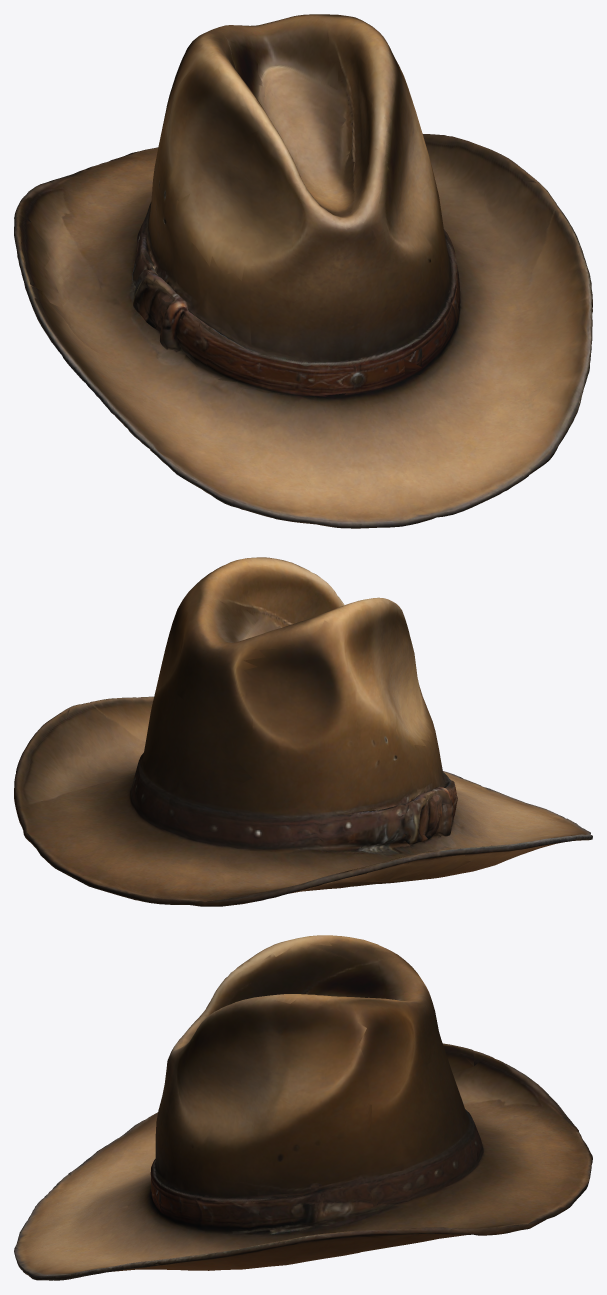
The model's file is hat4.glb.
3 renders of one model, top to bottom at view 1: azimuth 30°, elevation 25°; view 2: azimuth 150°, elevation 25°; view 3: azimuth 270°, elevation 25°, orthographic. The views are drawn at different scales.
Parts seen in each view (by area): view 1: Mesh1.015; view 2: Mesh1.015; view 3: Mesh1.015.
Part boxes in pixels (box(x1,y1,x2,y2)): Mesh1.015: box(14, 14, 592, 528); Mesh1.015: box(14, 557, 592, 906); Mesh1.015: box(14, 935, 592, 1280).
Size of the model in its own units: 1.72 by 1.13 by 1.99.
1 material, 1 textured.
